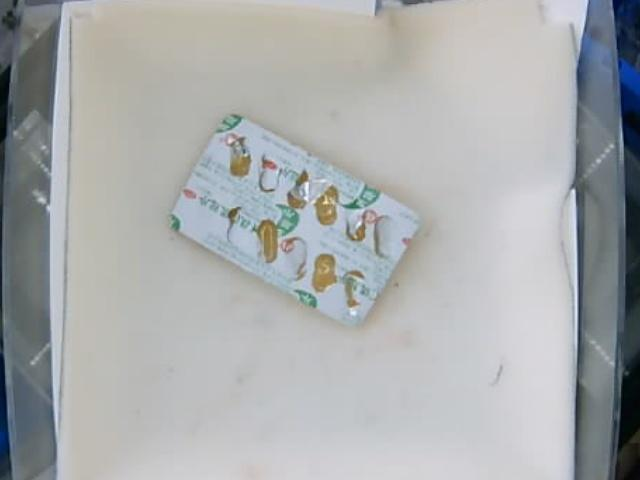Medicine: (165, 113, 419, 324)
